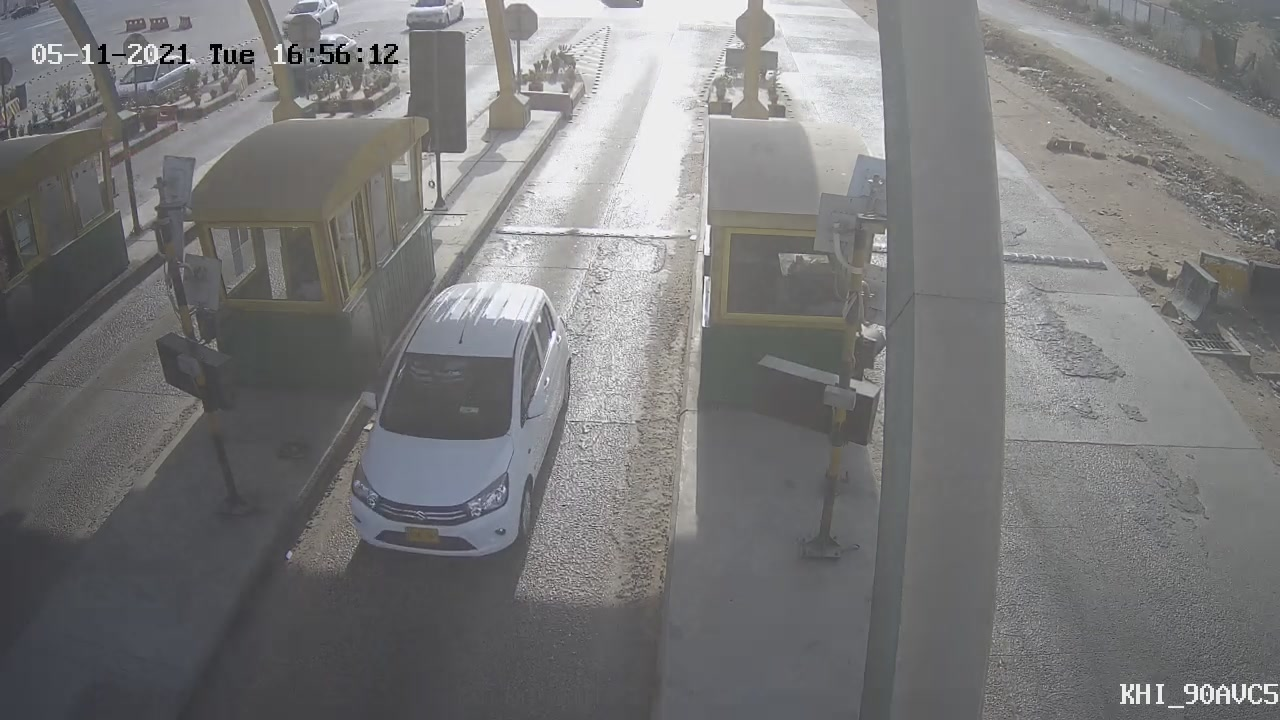F1: (311, 252, 599, 594)
